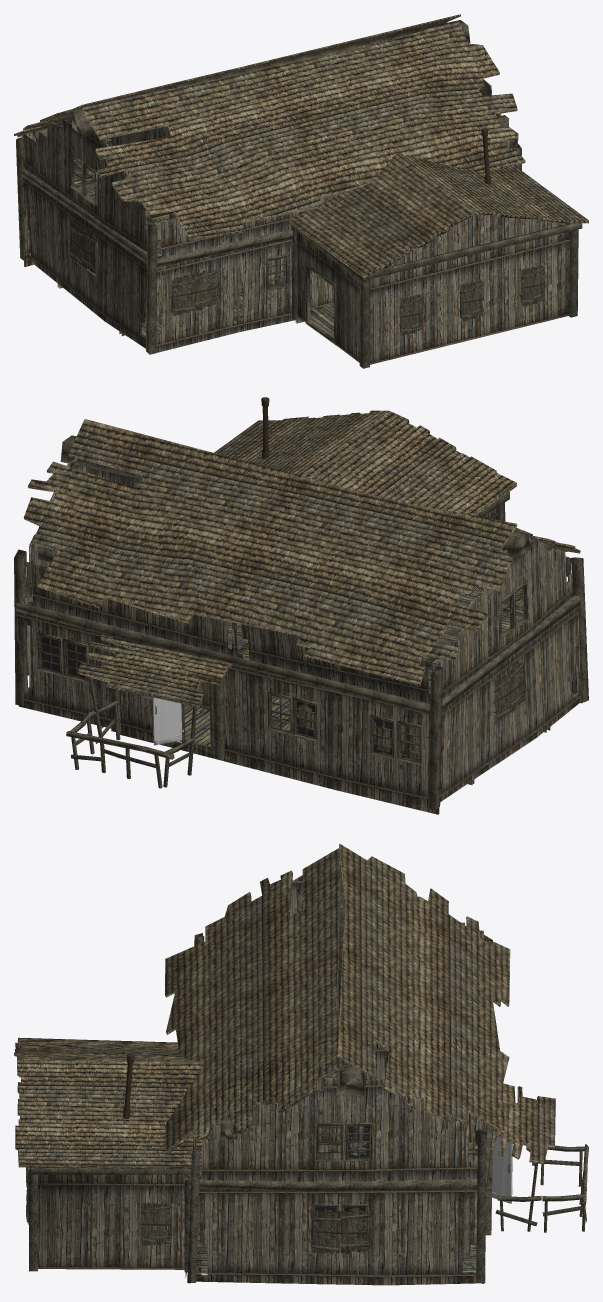
Rendered from 3dsfile.obj.
3 renders of one model, top to bottom at view 1: azimuth 30°, elevation 25°; view 2: azimuth 150°, elevation 25°; view 3: azimuth 270°, elevation 25°, orthographic. The views are drawn at different scales.
Visible parts, largest first — view 1: Mesh03_1, Mesh02_0, Mesh06_3, Mesh19_9, Mesh07_4, Mesh04_2; view 2: Mesh03_1, Mesh02_0, Mesh06_3, Mesh04_2, Mesh16_7, Mesh18_8, Mesh19_9; view 3: Mesh03_1, Mesh02_0, Mesh06_3, Mesh19_9, Mesh04_2, Mesh18_8.
Boxes of the visible parts, x1=… form: Mesh03_1: x1=14, y1=14, x2=588, y2=277; Mesh02_0: x1=22, y1=36, x2=569, y2=364; Mesh06_3: x1=16, y1=20, x2=582, y2=368; Mesh19_9: x1=68, y1=220, x2=544, y2=315; Mesh07_4: x1=400, y1=279, x2=483, y2=335; Mesh04_2: x1=74, y1=161, x2=411, y2=360; Mesh03_1: x1=23, y1=410, x2=580, y2=707; Mesh02_0: x1=16, y1=458, x2=583, y2=814; Mesh06_3: x1=14, y1=435, x2=588, y2=809; Mesh04_2: x1=30, y1=587, x2=574, y2=753; Mesh16_7: x1=41, y1=636, x2=392, y2=755; Mesh18_8: x1=153, y1=697, x2=183, y2=745; Mesh19_9: x1=495, y1=662, x2=524, y2=723; Mesh03_1: x1=14, y1=843, x2=555, y2=1169; Mesh02_0: x1=38, y1=875, x2=487, y2=1285; Mesh06_3: x1=26, y1=852, x2=588, y2=1283; Mesh19_9: x1=26, y1=1173, x2=370, y2=1253; Mesh04_2: x1=30, y1=1142, x2=477, y2=1273; Mesh18_8: x1=492, y1=1136, x2=512, y2=1203.
Size of the model in its own units: 67.55 by 32.89 by 71.75.
